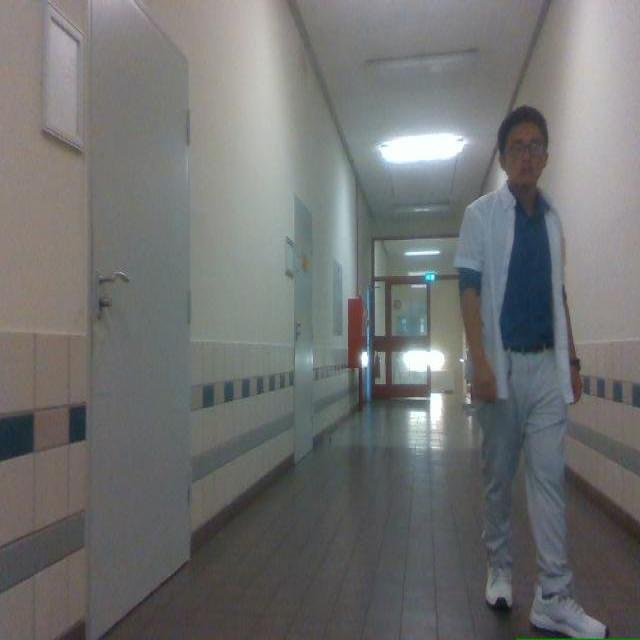humans: (455, 107, 607, 638)
